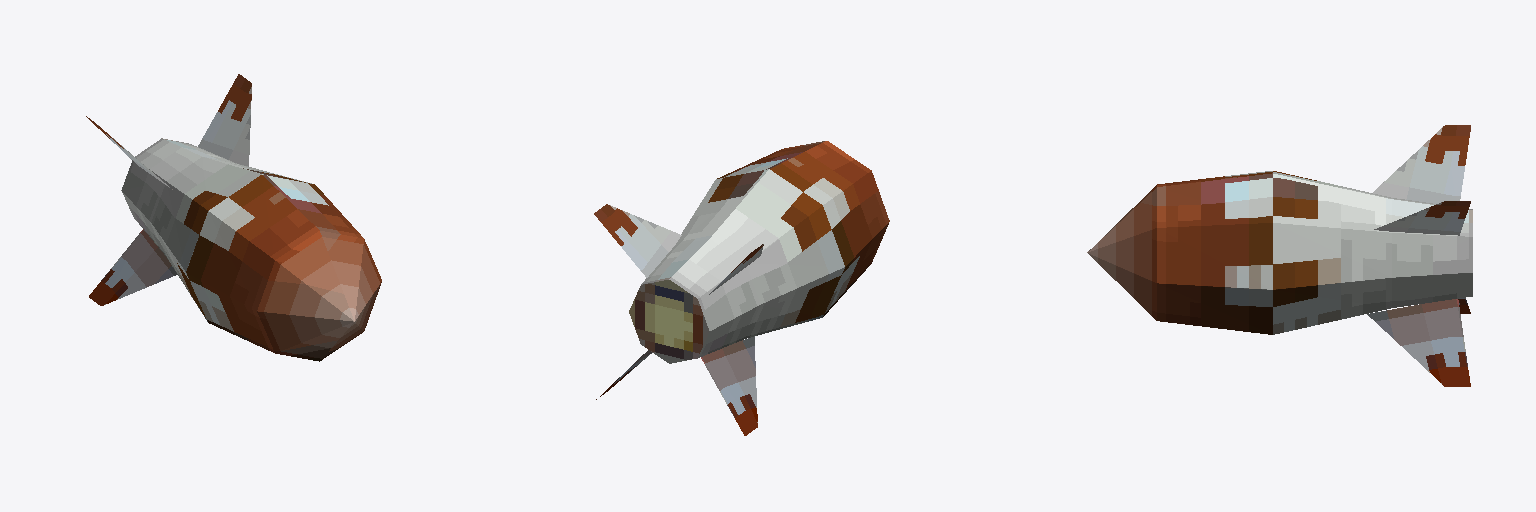
The picture shows the model from 3 angles: view 1: azimuth 30°, elevation 25°; view 2: azimuth 150°, elevation 25°; view 3: azimuth 270°, elevation 25°; orthographic projection.
Parts seen in each view (by area): view 1: DUMMY; view 2: DUMMY; view 3: DUMMY.
Boxes of the visible parts, <box> form: DUMMY: <box>86,74,381,361</box>; DUMMY: <box>594,141,889,435</box>; DUMMY: <box>1087,125,1472,386</box>.
Size of the model in its own units: 0.381 by 0.432 by 0.81.
1 materials, 1 textured.